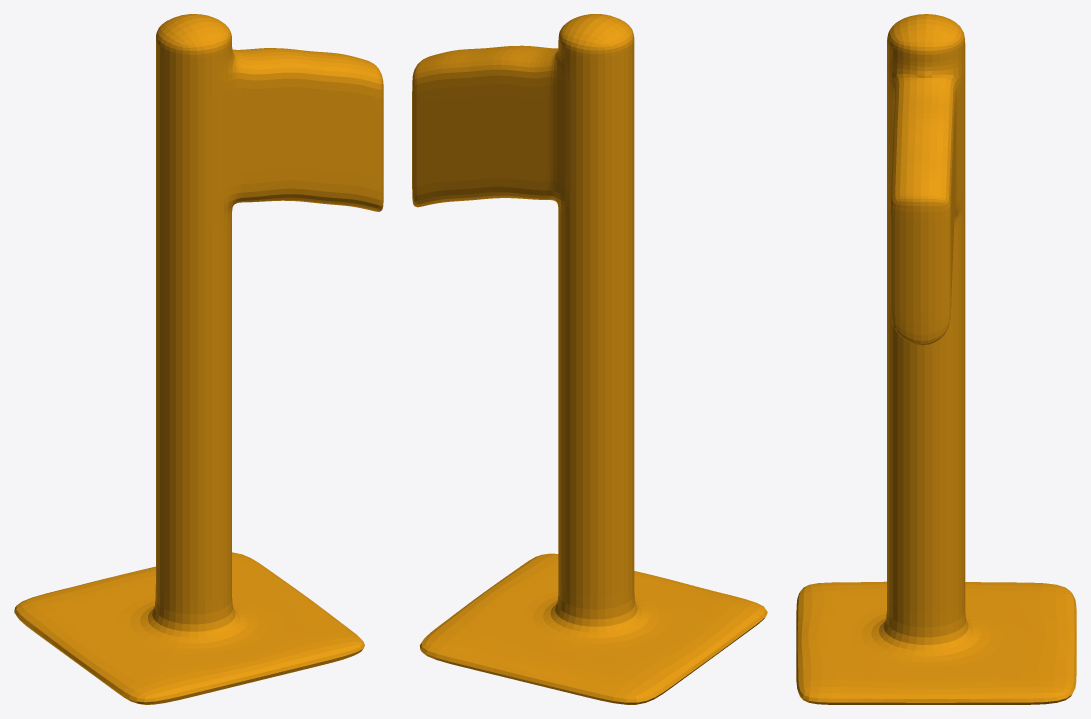
Rendered from flag.fbx.
The picture shows the model from 3 angles, left to right: view 1: azimuth 30°, elevation 25°; view 2: azimuth 150°, elevation 25°; view 3: azimuth 270°, elevation 25°; orthographic projection. The views are drawn at different scales.
Visible parts, largest first — view 1: Cube; view 2: Cube; view 3: Cube.
Part boxes in pixels (x1,y1,x2,y2): Cube: (14,14,383,704); Cube: (412,14,767,704); Cube: (796,14,1076,704).
Bounding box in the file's own units: 923 × 1816 × 729.
